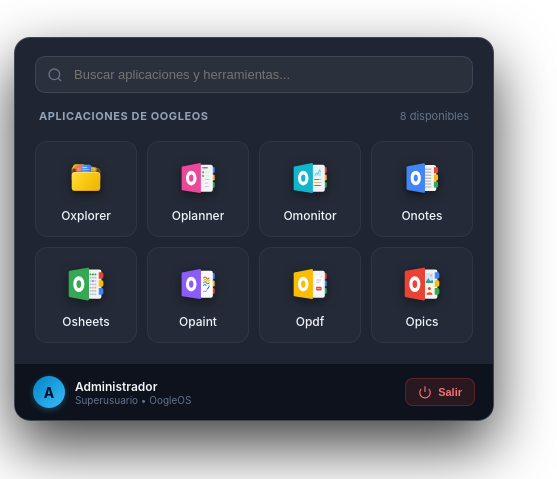
Test case: StartMenu.vue - Menú de Inicio estilo Windows › muestra mensaje de estado vacío cuando no hay coincidencias
Type "app_inexistente_xyz" into the field with class "search-input" at {"x": 254, "y": 74}, box [35,56,473,93]
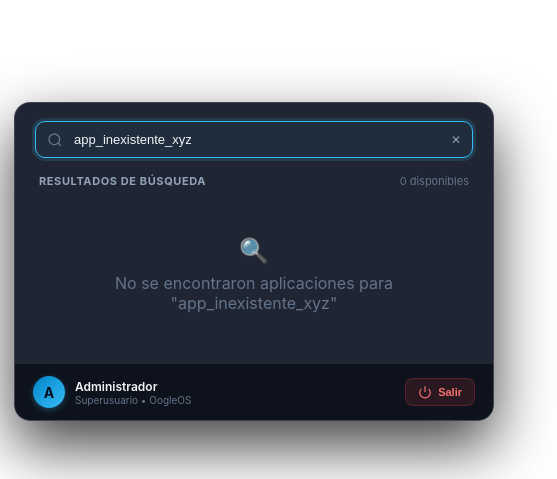
Expected: no elements with class "app-card" are shown
Expected: the element with class "no-apps-found" is shown, [115,236,393,313]
